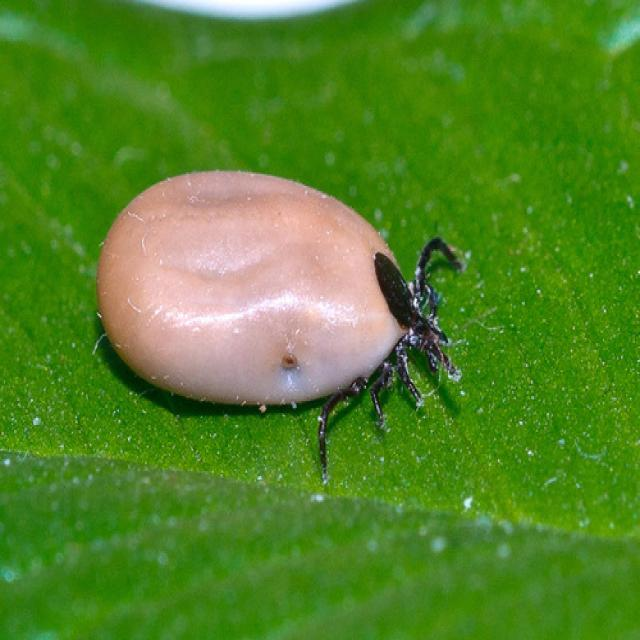Ixodes Ricinus-F-Fed: (93, 171, 466, 486)
